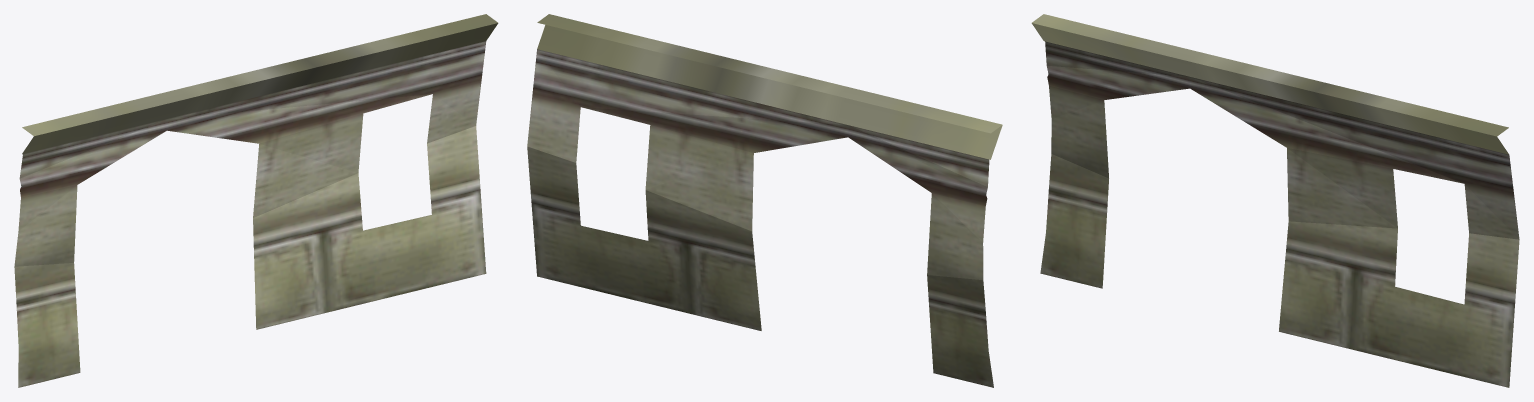
3 renders of one model, left to right at view 1: azimuth 30°, elevation 25°; view 2: azimuth 150°, elevation 25°; view 3: azimuth 330°, elevation 25°, orthographic. The views are drawn at different scales.
Parts seen in each view (by area): view 1: polySurfaceShape767, polySurfaceShape1054; view 2: polySurfaceShape767, polySurfaceShape1054; view 3: polySurfaceShape767, polySurfaceShape1054.
Part boxes in pixels (<box>): polySurfaceShape767: <box>14,41,486,387</box>; polySurfaceShape1054: <box>22,14,498,154</box>; polySurfaceShape767: <box>527,49,993,387</box>; polySurfaceShape1054: <box>537,14,1002,159</box>; polySurfaceShape767: <box>1040,41,1519,387</box>; polySurfaceShape1054: <box>1031,14,1508,154</box>.
Bounding box in the file's own units: 0.7335 × 0.3891 × 0.0607.
2 materials, 2 textured.
